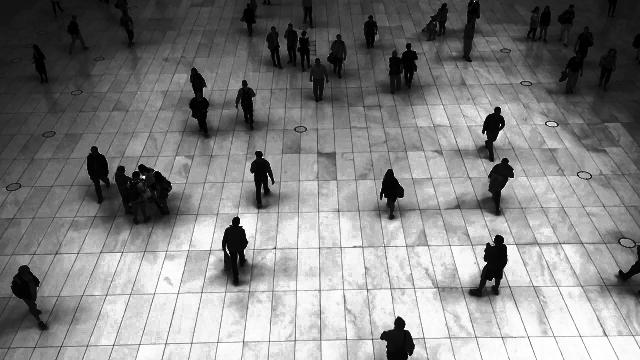berjalan: (6, 262, 52, 332), (218, 211, 252, 285), (243, 148, 279, 210), (82, 144, 114, 204), (488, 156, 514, 217), (378, 164, 404, 221), (480, 104, 506, 160), (232, 79, 258, 129), (596, 45, 618, 93), (400, 43, 420, 92), (328, 33, 349, 79), (64, 11, 86, 54), (296, 28, 312, 74), (385, 50, 401, 94), (560, 3, 576, 47), (524, 4, 540, 44)
